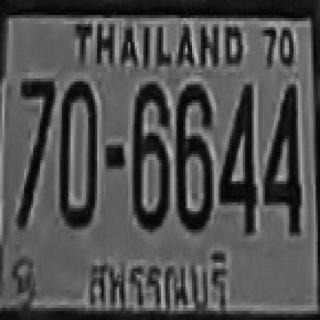N00: (58, 78, 95, 226)
N04: (263, 81, 300, 232), (219, 81, 254, 232)
N06: (130, 82, 168, 230), (175, 82, 211, 230)
N07: (18, 75, 53, 224)
P66: (82, 250, 236, 320)
